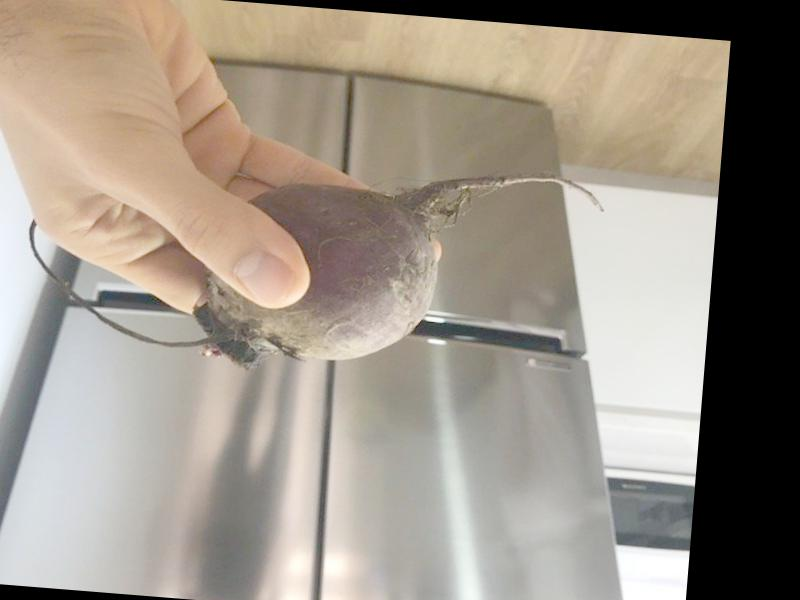Beet: (20, 134, 610, 392)
